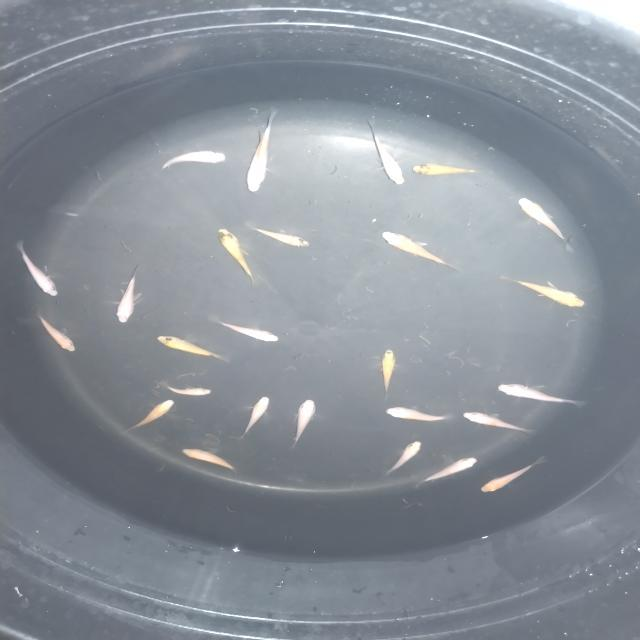nila: (492, 264, 594, 314), (375, 226, 462, 277), (518, 194, 582, 253), (474, 452, 552, 495), (13, 236, 61, 304), (365, 119, 408, 190), (210, 224, 259, 286), (245, 110, 280, 196), (406, 452, 482, 491), (150, 328, 230, 364), (492, 378, 591, 407), (456, 406, 540, 438), (118, 394, 180, 436), (202, 313, 282, 345), (27, 307, 76, 358), (176, 442, 240, 478), (156, 145, 234, 173), (284, 394, 322, 450), (109, 266, 142, 328), (372, 343, 406, 402), (378, 437, 424, 479), (407, 158, 492, 180), (234, 394, 276, 438), (248, 223, 314, 250), (379, 405, 461, 425), (162, 384, 216, 396)
